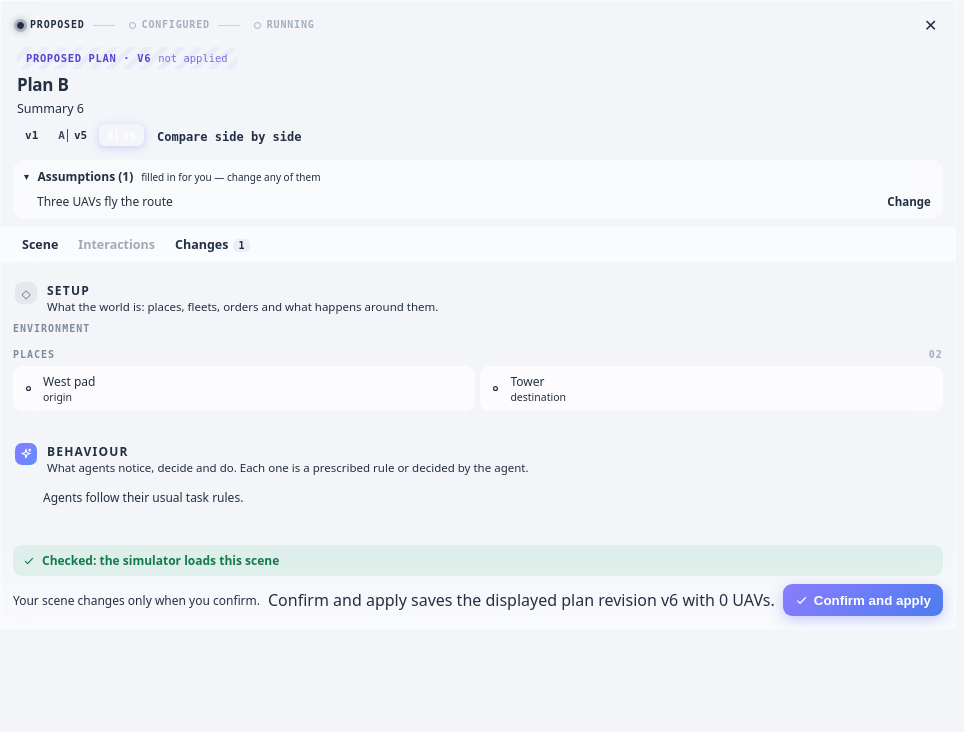
Test: keeps the comparison closed by default and explains the read-only rule
The image size is (964, 732).
Click the button with test id "as-alt-compare".
click(229, 137)  # box x1=148 y1=124 x2=310 y2=150
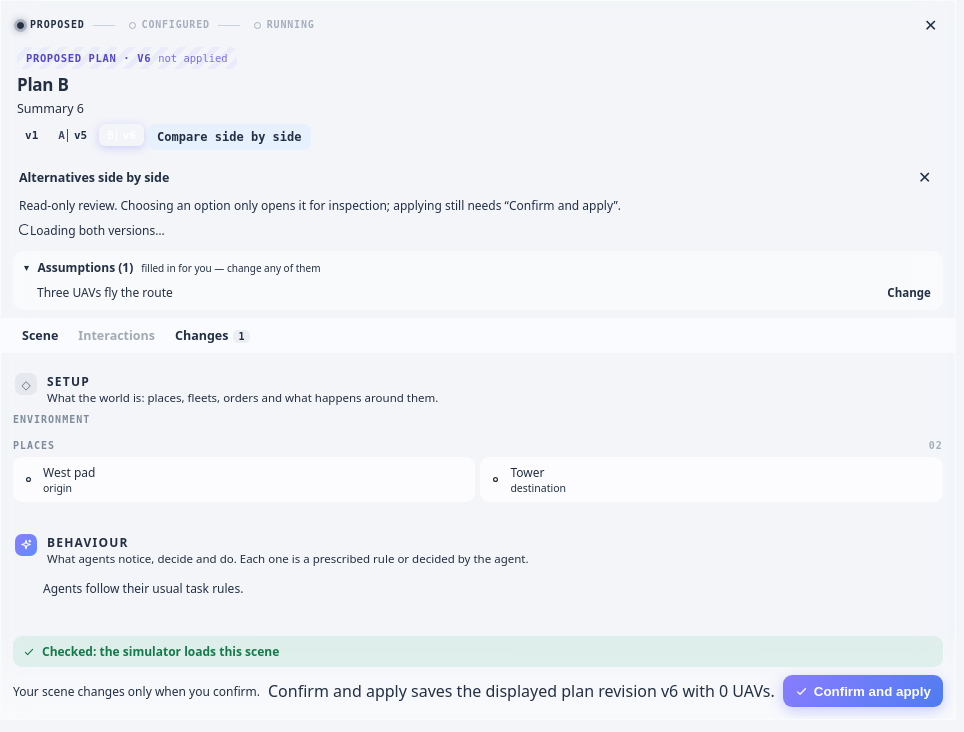
expect the element with test id "as-alternatives" shows "Confirm and apply": met, box x1=19 y1=197 x2=621 y2=214
# Closing restores the plain board.
Click the button named "Close the side-by-side comparison".
click(925, 177)  # box x1=913 y1=165 x2=937 y2=189
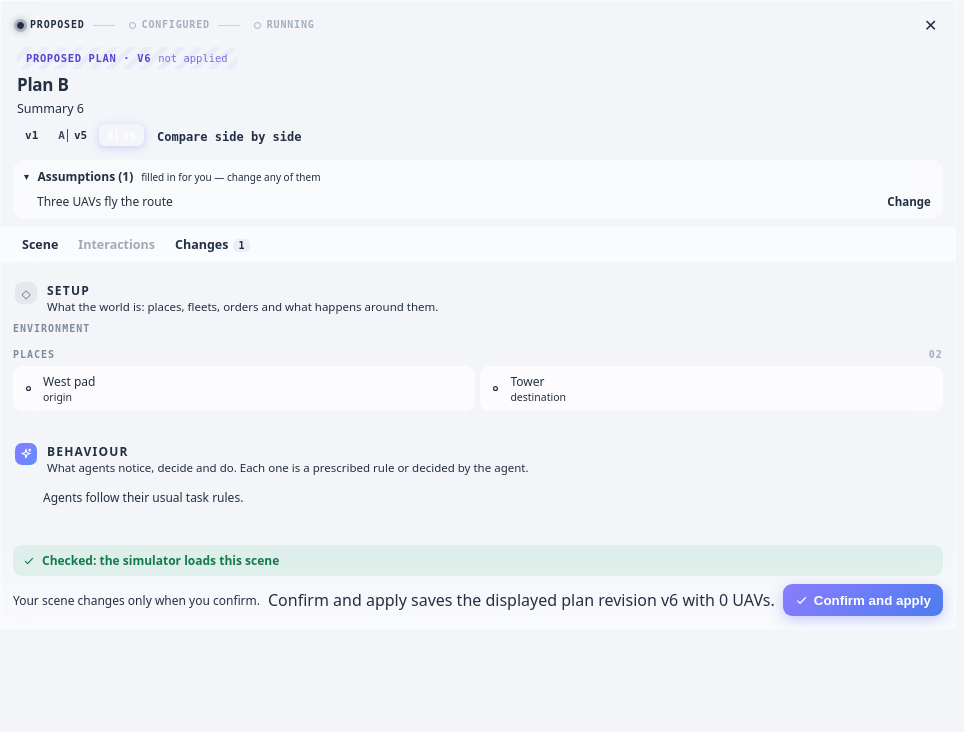
expect the element with test id "as-alternatives" is gone: met
